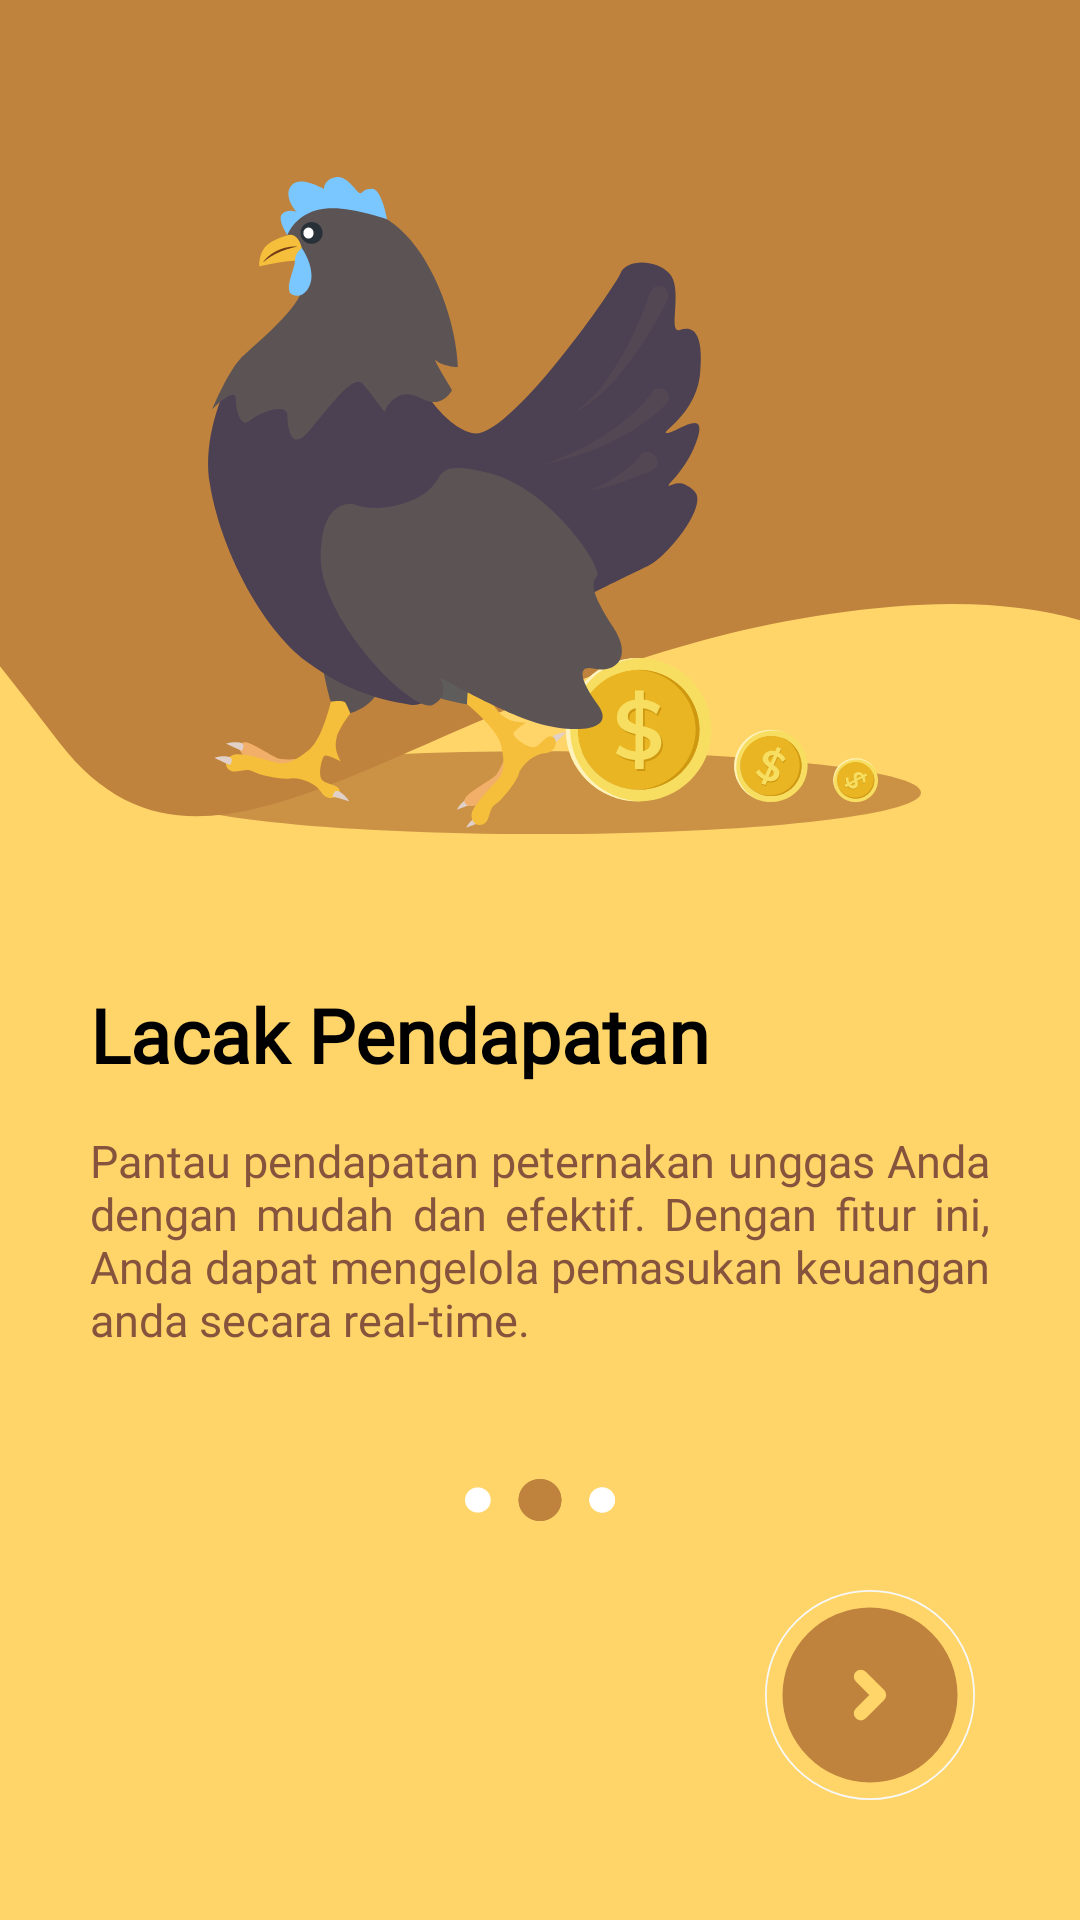

Where icons sit on this 1080×1920 app screen, as box(x1, y1, x2, y2):
opening pages: box(465, 1479, 615, 1521)
